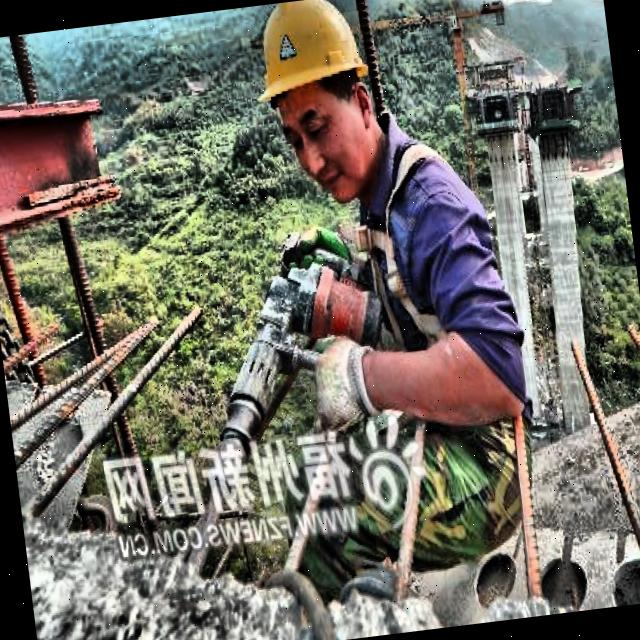helmet: (235, 0, 401, 218)
